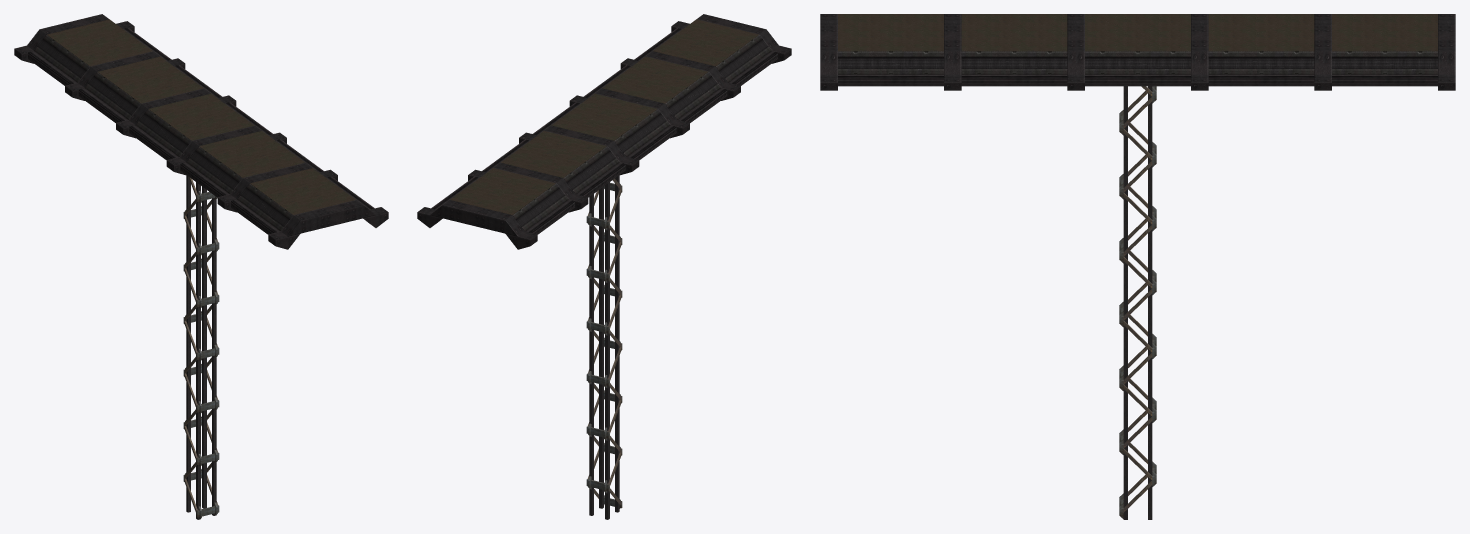
The model's file is bridge4.fbx.
3 renders of one model, left to right at view 1: azimuth 30°, elevation 25°; view 2: azimuth 150°, elevation 25°; view 3: azimuth 270°, elevation 25°, orthographic. The views are drawn at different scales.
Visible parts, largest first — view 1: Object; view 2: Object; view 3: Object.
Boxes of the visible parts, x1,y1,x2,y2 form: Object: (14, 14, 388, 519); Object: (417, 14, 791, 519); Object: (820, 14, 1455, 519).
Size of the model in its own units: 1800 by 6025 by 7200.
